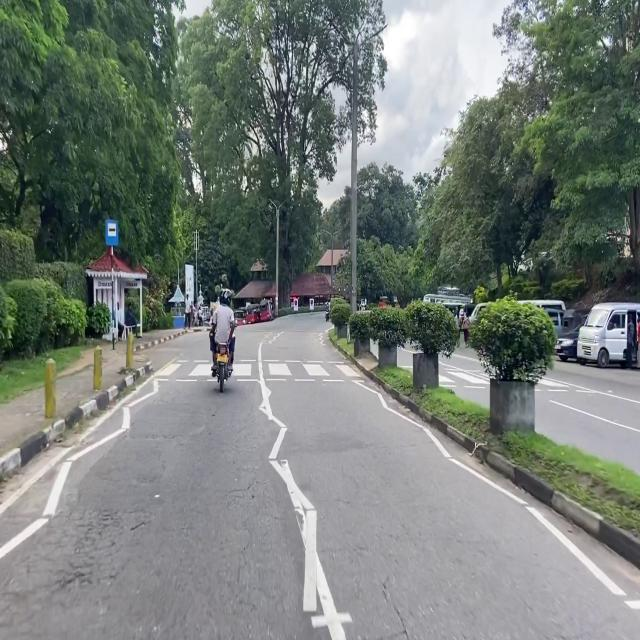car: (555, 325, 580, 361)
motorcycle: (216, 343, 231, 392), (325, 310, 329, 322)
person: (210, 289, 235, 376), (627, 312, 635, 368), (124, 302, 136, 327), (462, 312, 470, 347), (636, 312, 640, 369), (184, 293, 190, 328), (456, 312, 461, 347), (198, 306, 203, 326), (325, 298, 330, 311)
three wheeler: (562, 309, 589, 329), (458, 302, 473, 329), (260, 299, 273, 322), (246, 304, 259, 324), (390, 295, 399, 307), (379, 296, 388, 308)
van: (577, 303, 640, 368), (518, 300, 566, 312), (544, 307, 563, 335), (469, 303, 489, 325)
